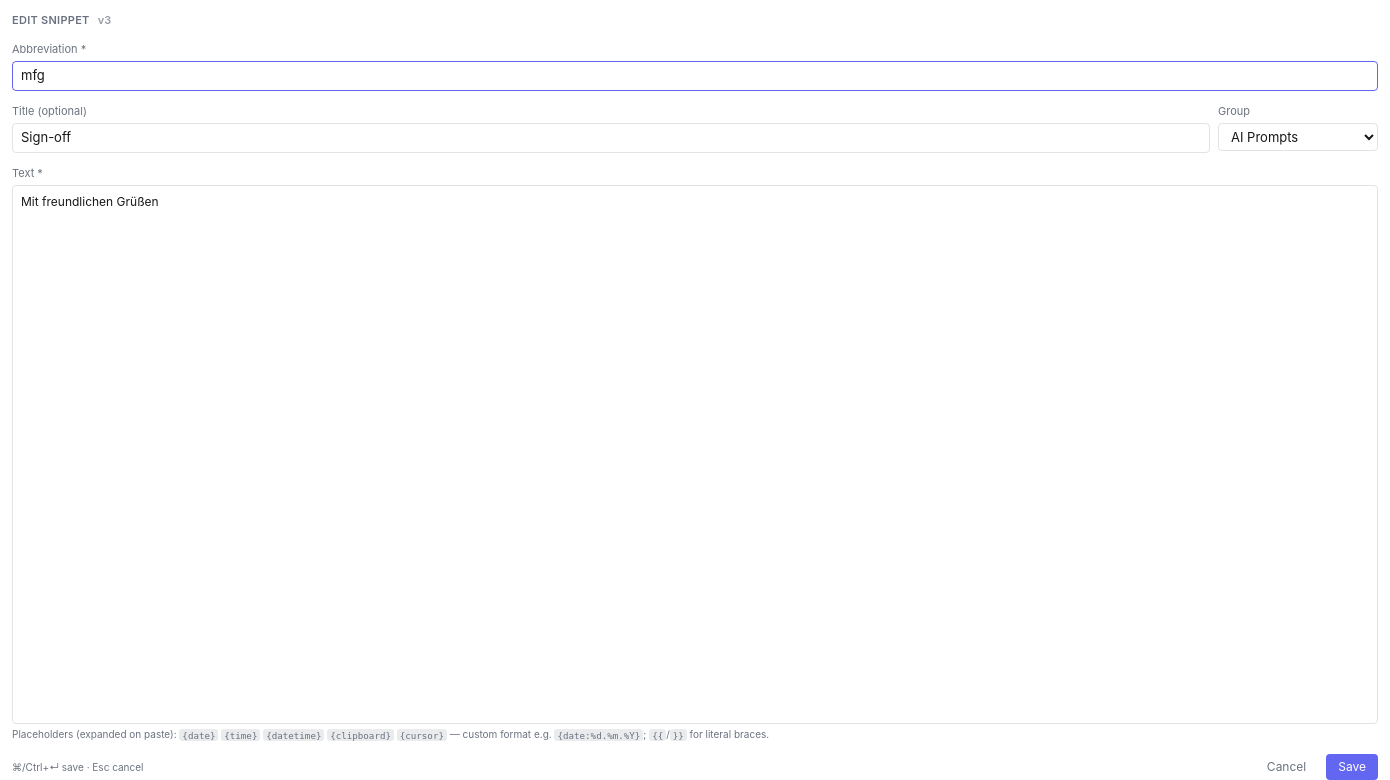
Test: SnippetEditor — inline new group › backs out of the inline field via its × button
Select "＋ New group…" in the dropdown at (1298,137), box [1218,123,1378,151]
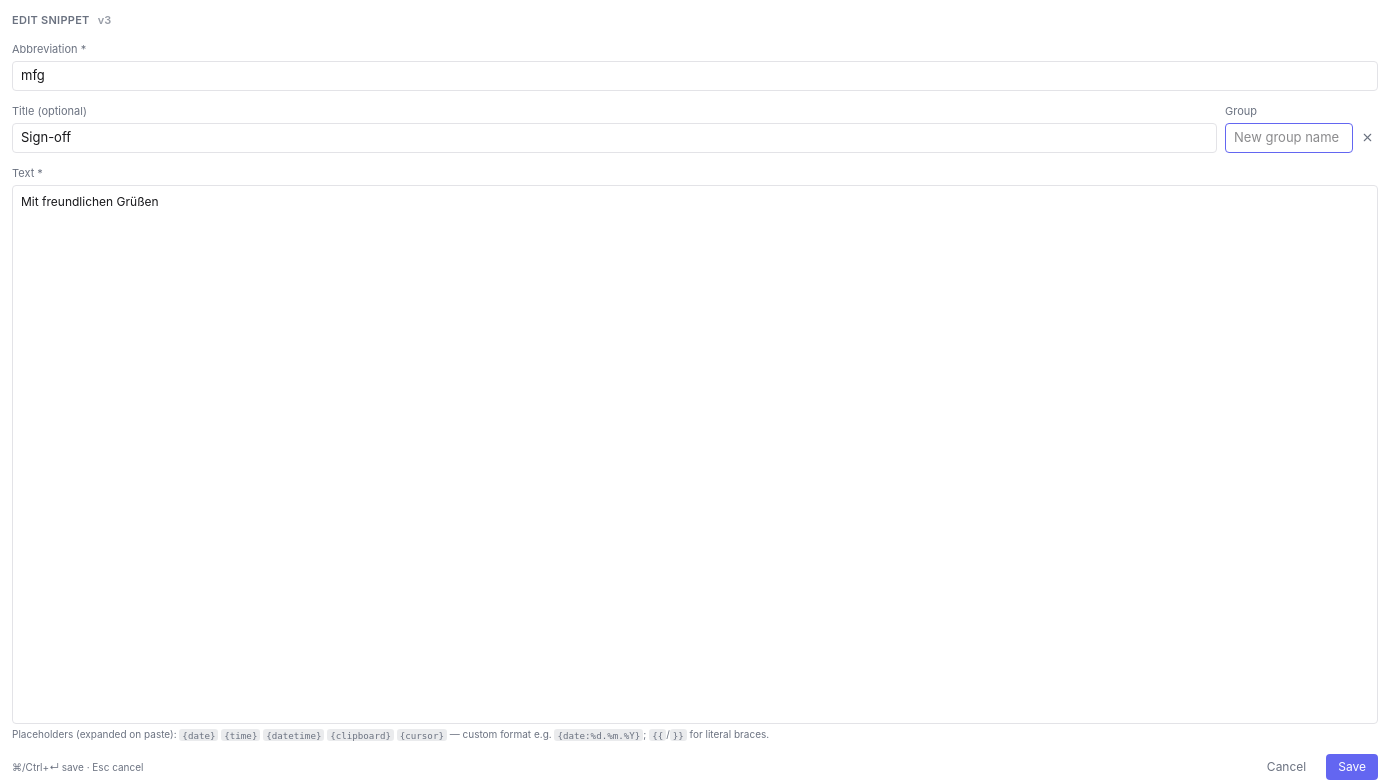
Expected: the field with placeholder "New group name" is shown, [1225,123,1353,152]
Click the button titled "Cancel new group".
click(1368, 138)  # box [1357,127,1378,148]
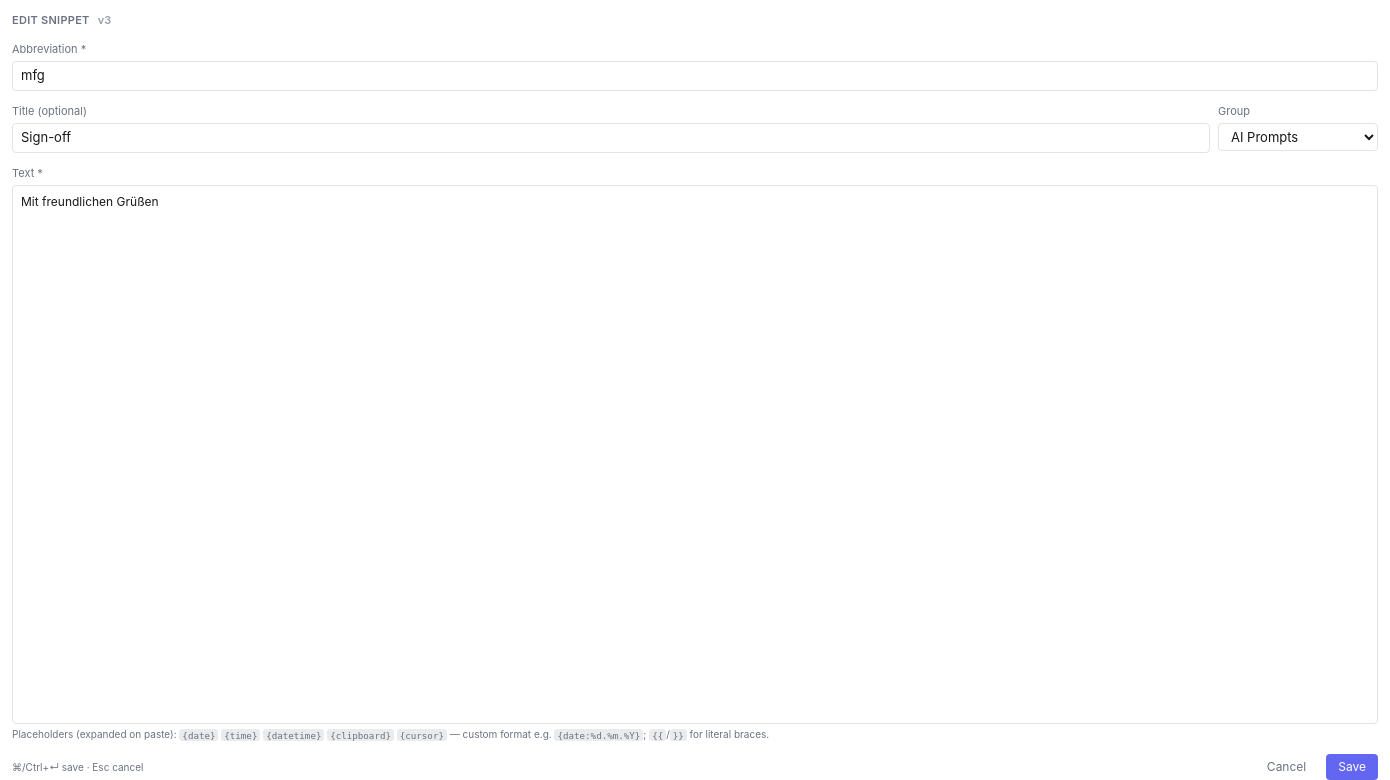
Expected: the field with placeholder "New group name" is not shown
Expected: the dropdown is shown, [1218,123,1378,151]
